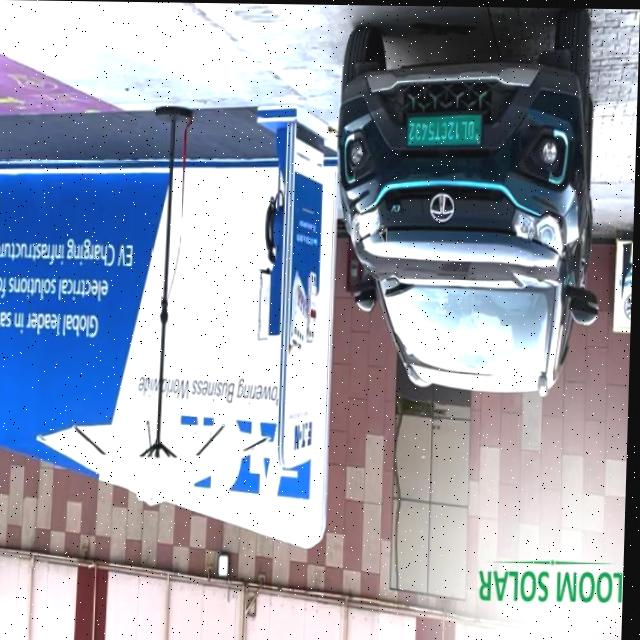plate: (406, 111, 485, 148)
